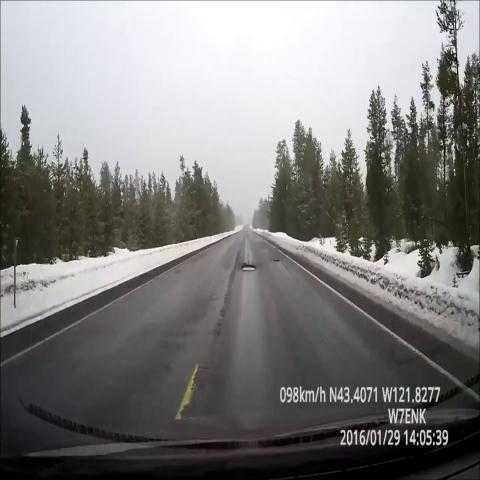pothole: (239, 248, 262, 279), (267, 252, 285, 267)
